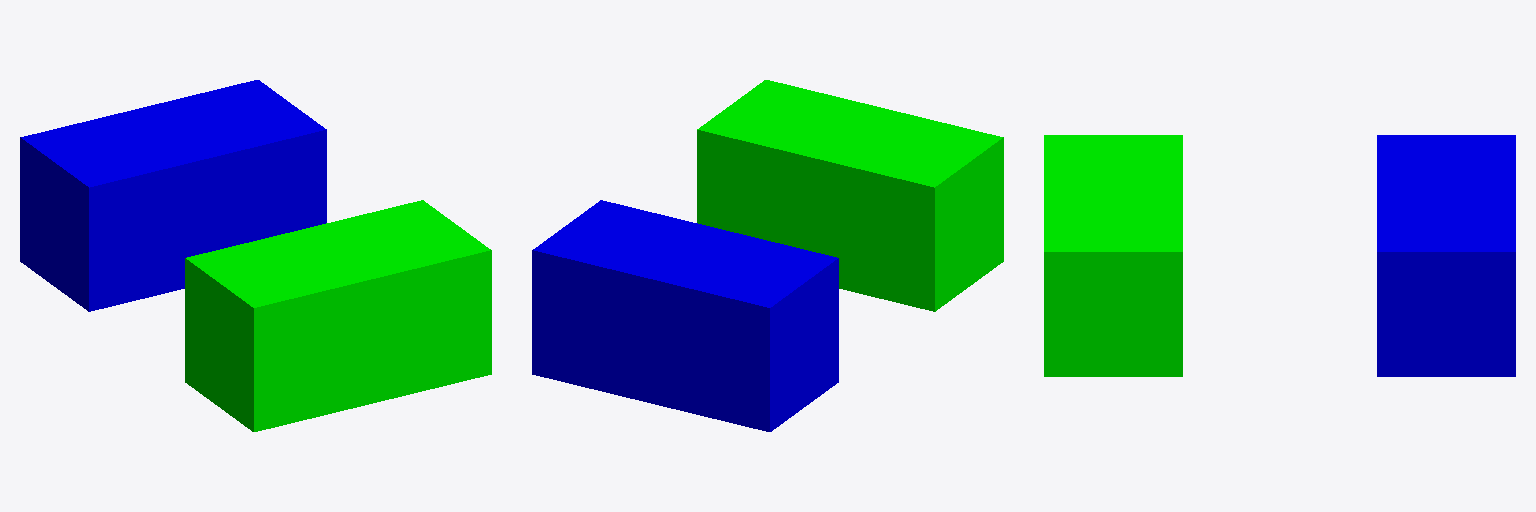
robot.urdf — elbow:
<?xml version="1.0"?>
<robot name="elbow" xmlns:drake="https://drake.mit.edu/">
    <link name="elbow_1">
        <inertial>
            <origin xyz="0 0 0" rpy="0 0 0"/>
            <mass value="0.37"/>
            <inertia
                ixx="0.0006167"
                ixy="0"
                ixz="0"
                iyy="0.0006167"
                iyz="0"
                izz="0.0006167"/>
        </inertial>
        <visual>
            <origin xyz="0 0 0" rpy="0 0 0" />
            <geometry>
                <mesh filename="contactnets_elbow_half_small.obj"/>
            </geometry>
            <material name="green">
                <color rgba="0 1 0 1.0" />
            </material>
        </visual>
        <collision>
            <geometry>
                <mesh filename="contactnets_elbow_half_small.obj"/>
            </geometry>
            <drake:proximity_properties>
                <drake:mu_static value="0.03" />
            </drake:proximity_properties>
            <origin xyz="0 0 0" rpy="0 0 0" />
        </collision>
    </link>

    <link name="elbow_2">
        <inertial>
            <origin xyz="0.035 0 0" rpy="0 0 0"/>
            <mass value="0.37"/>
            <inertia
                ixx="0.0006167"
                ixy="0"
                ixz="0"
                iyy="0.0006167"
                iyz="0"
                izz="0.0006167"/>
        </inertial>
        <visual>
            <origin xyz="0.035 0 0" rpy="0 0 0" />
            <geometry>
                <mesh filename="contactnets_elbow_half_small.obj"/>
            </geometry>
            <material name="blue">
                <color rgba="0 0 1 1.0" />
            </material>
        </visual>
        <collision>
            <geometry>
                <mesh filename="contactnets_elbow_half_small.obj"/>
            </geometry>
            <drake:proximity_properties>
                <drake:mu_static value="0.03" />
            </drake:proximity_properties>
            <origin xyz="0.035 0 0" rpy="0 0 0" />
        </collision>
    </link>

    <joint name="hinge_1_to_2" type="continuous">
        <parent link="elbow_1"/>
        <child link="elbow_2"/>
        <origin xyz="-0.035 0.06 0" rpy="0 0 0" />
        <axis xyz="0 1 0" />
    </joint>

    <drake:collision_filter_group name="elbow_group">
        <drake:member link="elbow_1"/>
        <drake:member link="elbow_2"/>
        <drake:ignored_collision_filter_group name="elbow_group"/>
    </drake:collision_filter_group>

</robot>

--- Facts derived from the render (not from the file) ---
Views: 3 orthographic renders of the robot side by side, from view 1: azimuth 30°, elevation 25°; view 2: azimuth 150°, elevation 25°; view 3: azimuth 270°, elevation 25°.
Robot: elbow — 2 links, 1 joints (1 continuous); root link elbow_1; default pose: every joint at zero.
Visible links, largest first — view 1: elbow_1, elbow_2; view 2: elbow_2, elbow_1; view 3: elbow_1, elbow_2.
Boxes of the visible links, <box> form: elbow_1: <box>185,200,491,431</box>; elbow_2: <box>20,80,326,311</box>; elbow_2: <box>532,200,838,431</box>; elbow_1: <box>697,80,1003,311</box>; elbow_1: <box>1044,135,1182,376</box>; elbow_2: <box>1377,135,1515,376</box>.
Size in the robot's own frame: 0.05 by 0.085 by 0.025 metres.
Meshes: 1 distinct files referenced, 2 mesh visuals loaded (1 OBJ).